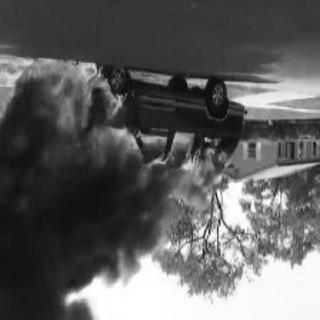Fire: (9, 57, 227, 189)
Smoke: (0, 157, 164, 318)
